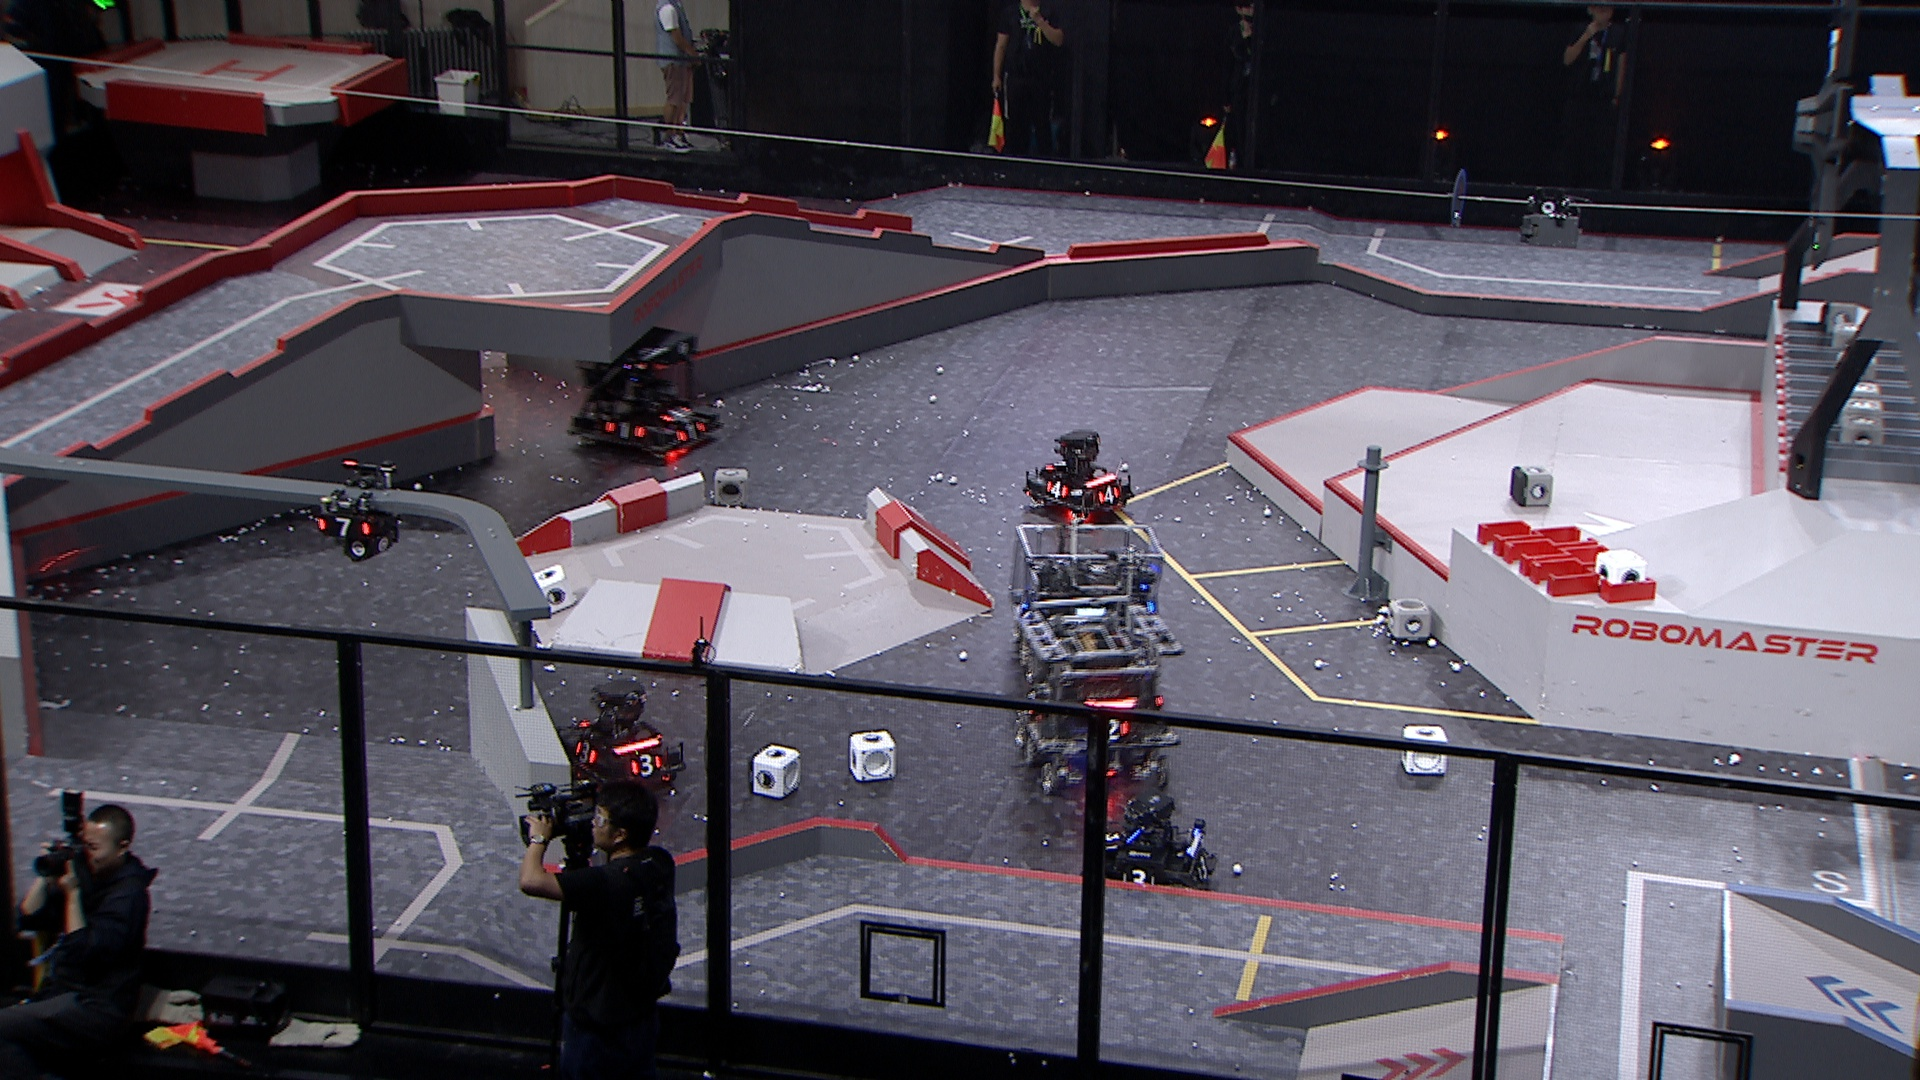armor: (316, 516, 372, 541), (604, 419, 647, 442), (629, 754, 662, 779), (674, 422, 707, 444), (659, 404, 694, 425), (1120, 869, 1156, 887), (1102, 829, 1125, 853), (576, 740, 597, 765), (1109, 717, 1130, 741), (1096, 485, 1120, 505), (1044, 481, 1069, 500), (1196, 855, 1211, 880), (1044, 458, 1065, 473)
car: (1017, 593, 1187, 793), (1011, 520, 1166, 673), (564, 320, 727, 462), (1077, 789, 1218, 911), (551, 674, 686, 796), (1021, 429, 1135, 526)
watcher: (315, 458, 405, 560)
